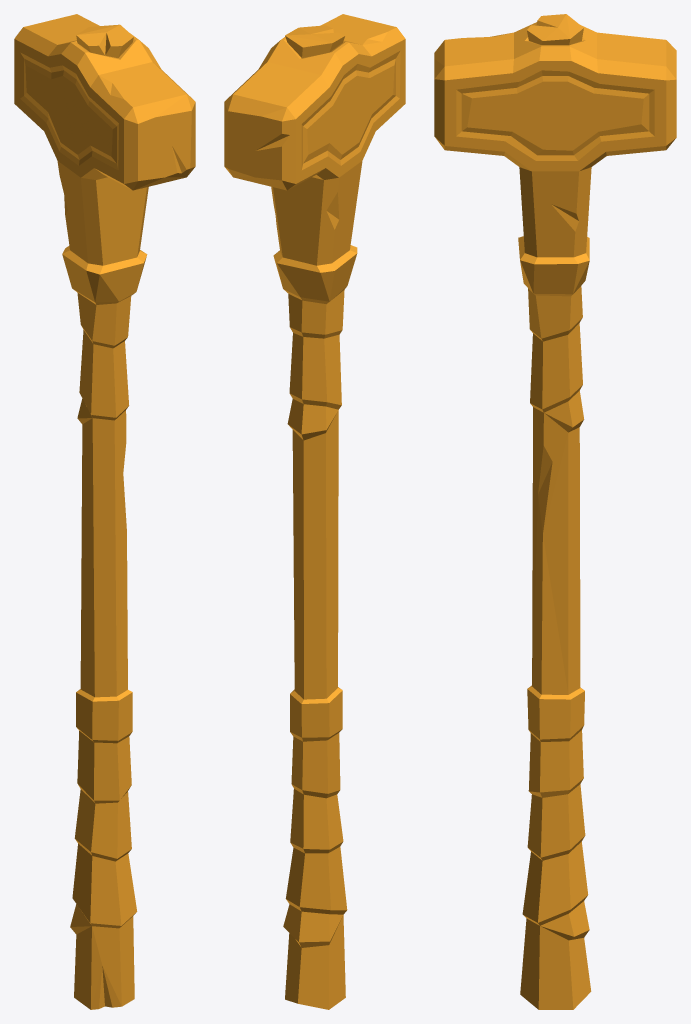
The model's file is SM_Maul_B_Fantasy.fbx.
3 views of the same model, side by side, from view 1: azimuth 30°, elevation 25°; view 2: azimuth 150°, elevation 25°; view 3: azimuth 270°, elevation 25° (orthographic).
Parts seen in each view (by area): view 1: maul-b-fantasy; view 2: maul-b-fantasy; view 3: maul-b-fantasy.
Part boxes in pixels (bbox=[...]): maul-b-fantasy: bbox=[14, 14, 195, 1009]; maul-b-fantasy: bbox=[224, 14, 405, 1009]; maul-b-fantasy: bbox=[434, 14, 676, 1009].
Size of the model in its own units: 0.0616 by 0.7924 by 0.1785.
